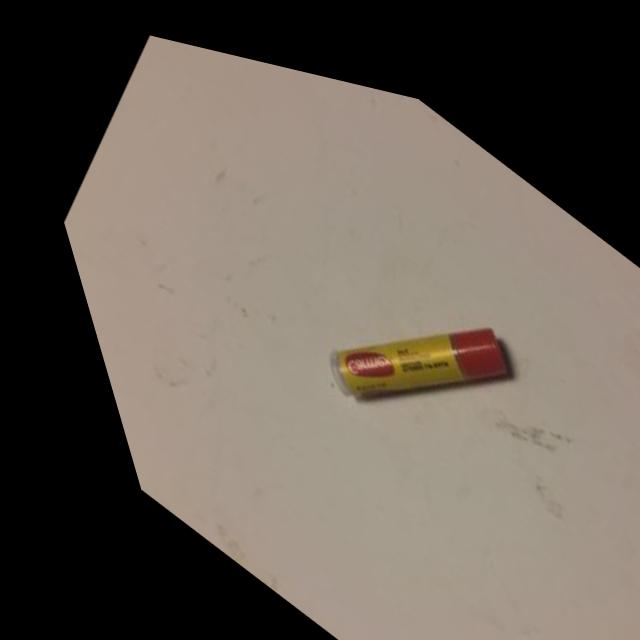trash: (106, 57, 640, 634)
